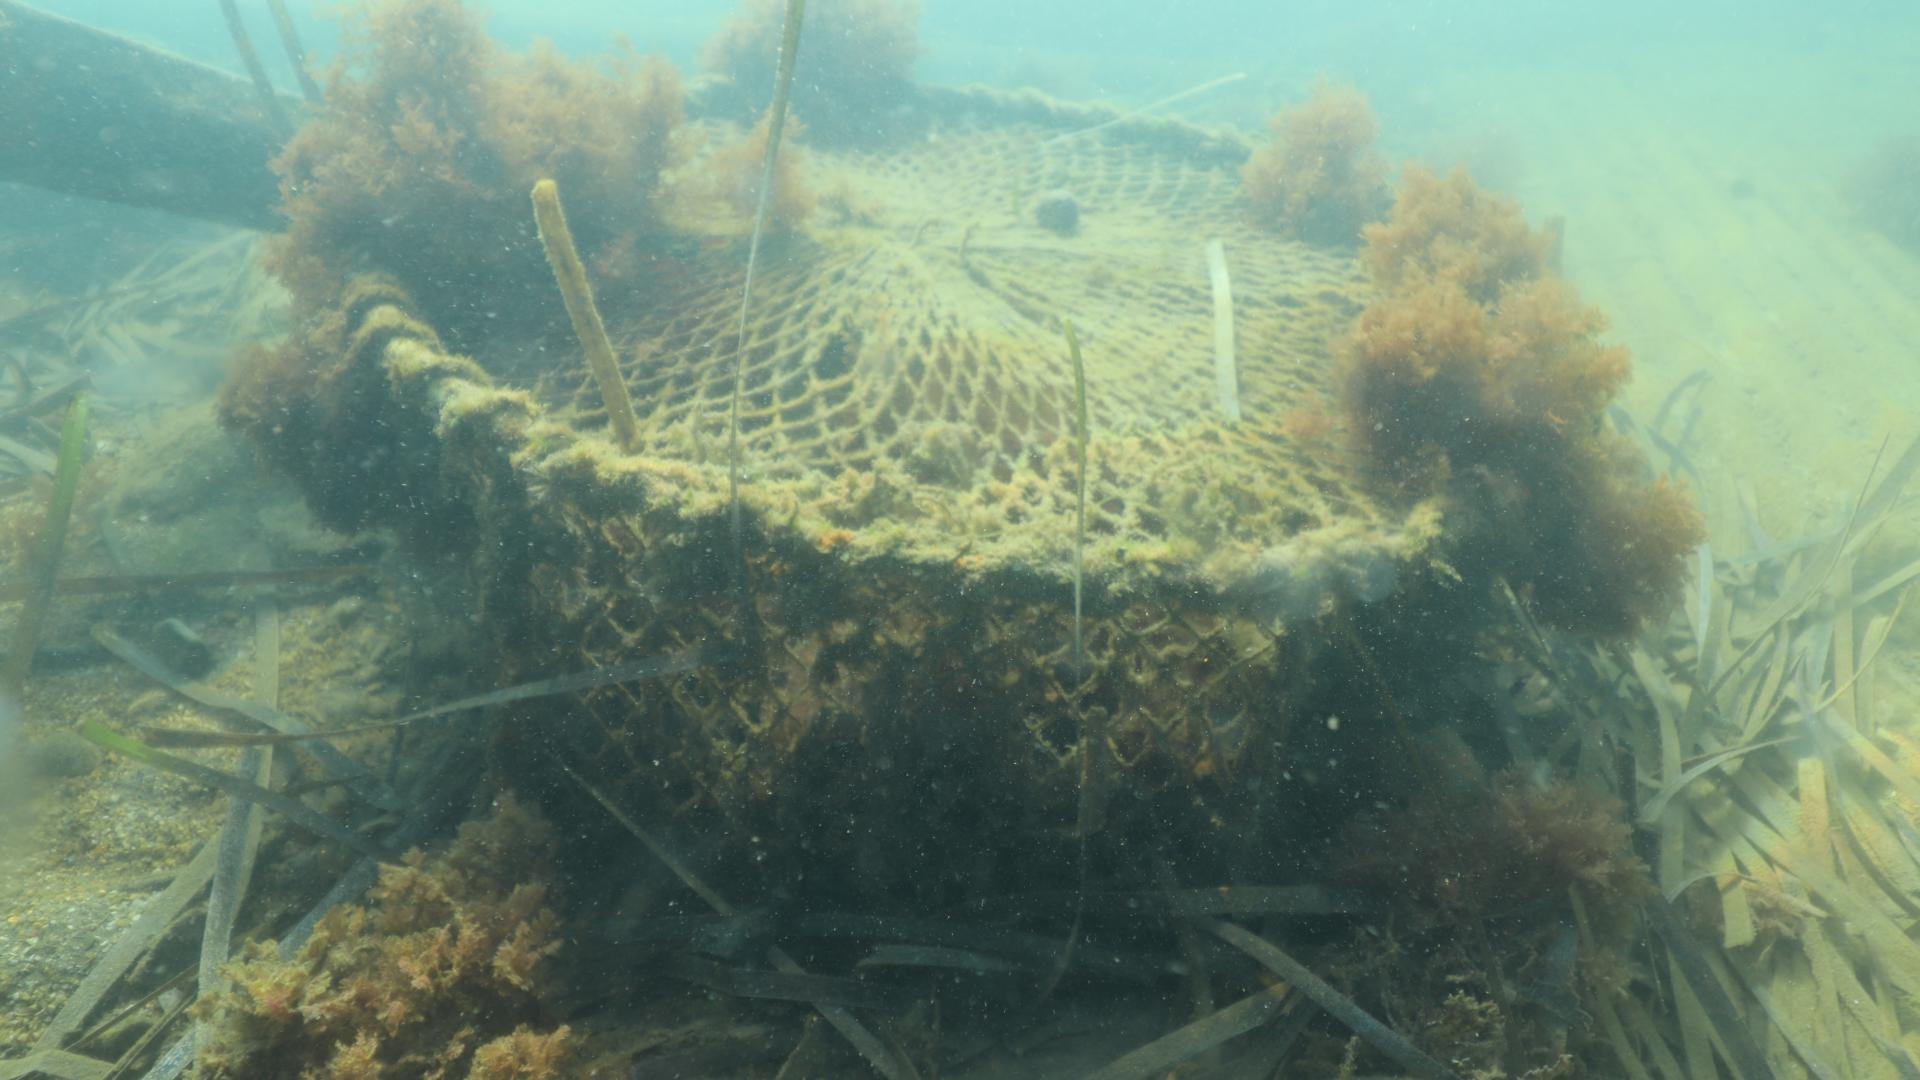circular fish trap: (339, 70, 1489, 916)
